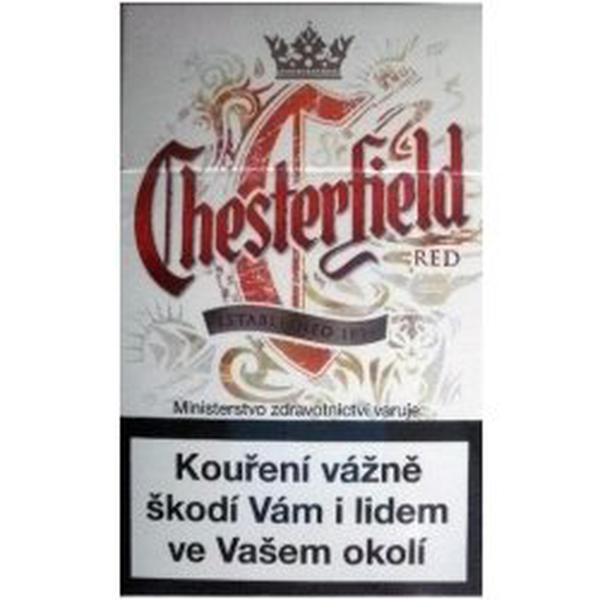chesterfield_red: (123, 7, 482, 594)
